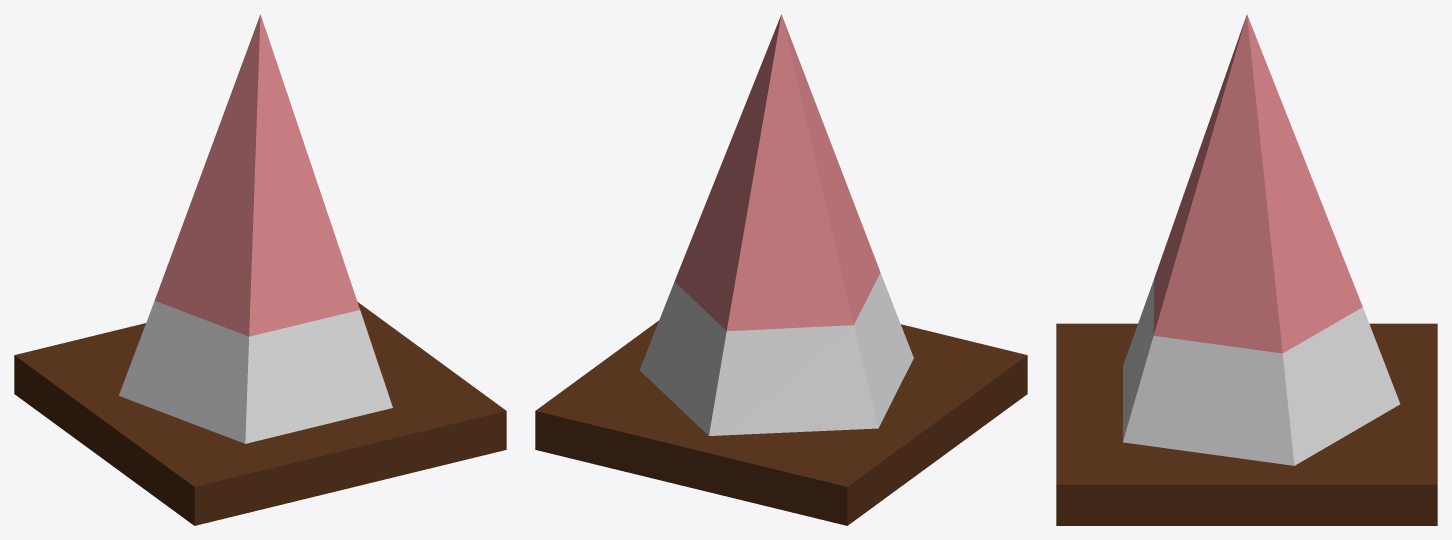
The model's file is ConeModel.dae.
3 renders of one model, left to right at view 1: azimuth 30°, elevation 25°; view 2: azimuth 150°, elevation 25°; view 3: azimuth 270°, elevation 25°, orthographic. The views are drawn at different scales.
Visible parts, largest first — view 1: cone, flat; view 2: cone, flat; view 3: cone, flat.
Boxes of the visible parts, box(x1,y1,x2,y2) form: cone: box(119, 14, 392, 443); flat: box(14, 302, 506, 525); cone: box(639, 14, 913, 435); flat: box(535, 320, 1027, 525); cone: box(1123, 14, 1400, 465); flat: box(1056, 323, 1437, 525).
Size of the model in its own units: 0.9351 by 0.9351 by 1.17.
